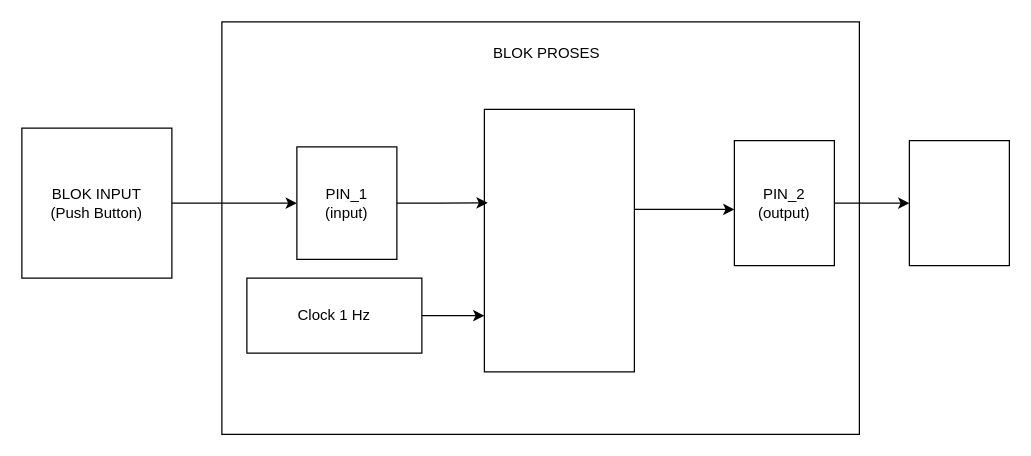
The diagram is 1031 pixels wide and 456 high, and some of its shapes have lost their labels. The centre of each missing label's shape, as x and y in pixels:
4 D Flip-Flop Digital Delay Line: the point at 558,240
BLOK OUTPUT (LED): the point at 958,202
